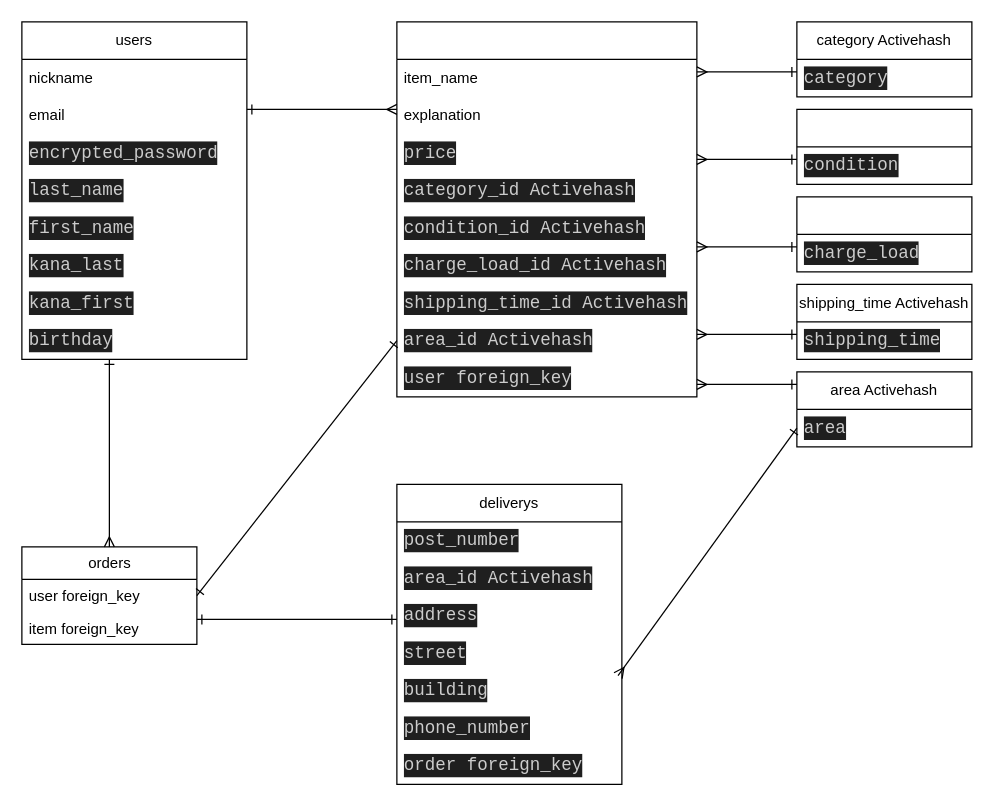
The diagram is 994 pixels wide and 806 high, and some of its shapes have lost their labels. The shapes that lost their labels are listed below. From the top down, each one's box as (x1, y1, x2, y2) in pixels, then its label:
(796, 108, 972, 184): condition Activehash
(396, 21, 697, 397): items
(796, 196, 972, 272): charge_load Activehash
